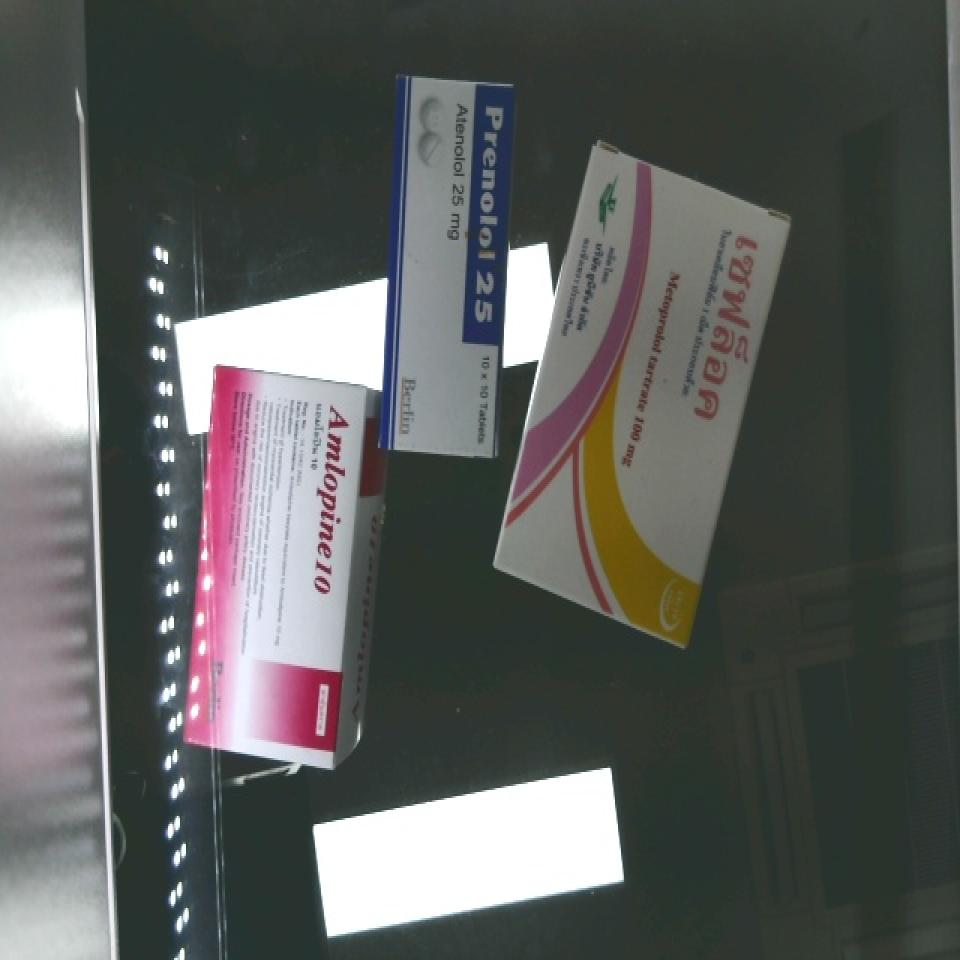medicine_box: (483, 142, 798, 648), (175, 367, 374, 772), (372, 71, 519, 460)
medicine_label_obb: (675, 210, 786, 453), (298, 382, 364, 616), (461, 83, 515, 345)
